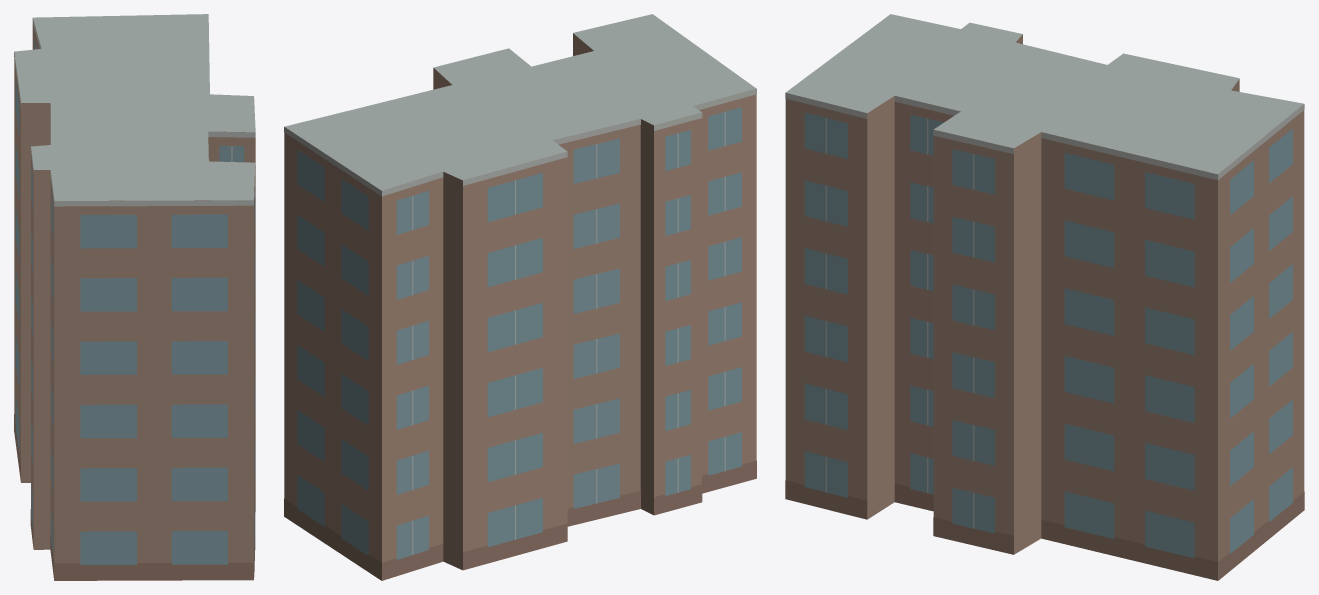
The model's file is survey-upis-32981276.glb.
3 views of the same model, side by side, from view 1: azimuth 30°, elevation 25°; view 2: azimuth 150°, elevation 25°; view 3: azimuth 270°, elevation 25° (orthographic). The views are drawn at different scales.
Visible parts, largest first — view 1: survey-upis-32981276.tmp; view 2: survey-upis-32981276.tmp; view 3: survey-upis-32981276.tmp.
Part boxes in pixels (x1,y1,x2,y2): survey-upis-32981276.tmp: (14, 14, 255, 580); survey-upis-32981276.tmp: (284, 14, 756, 580); survey-upis-32981276.tmp: (785, 14, 1304, 580).
Size of the model in its own units: 14.23 by 16.8 by 19.45.
